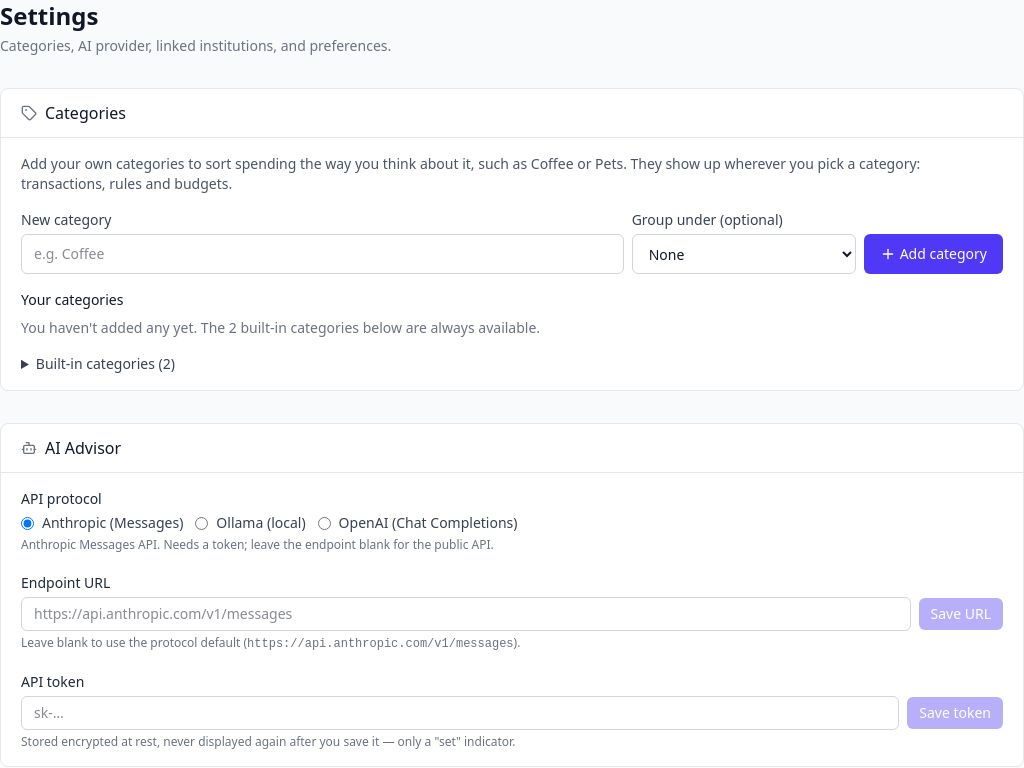
it: SettingsPage categories › adds a category under a group, then renames it
expect the text "You haven't added any yet" is shown: met, box [21, 318, 229, 337]
Step 1. Type "Coffee" into the field labelled "New category" → (322, 254), box [21, 234, 624, 274]
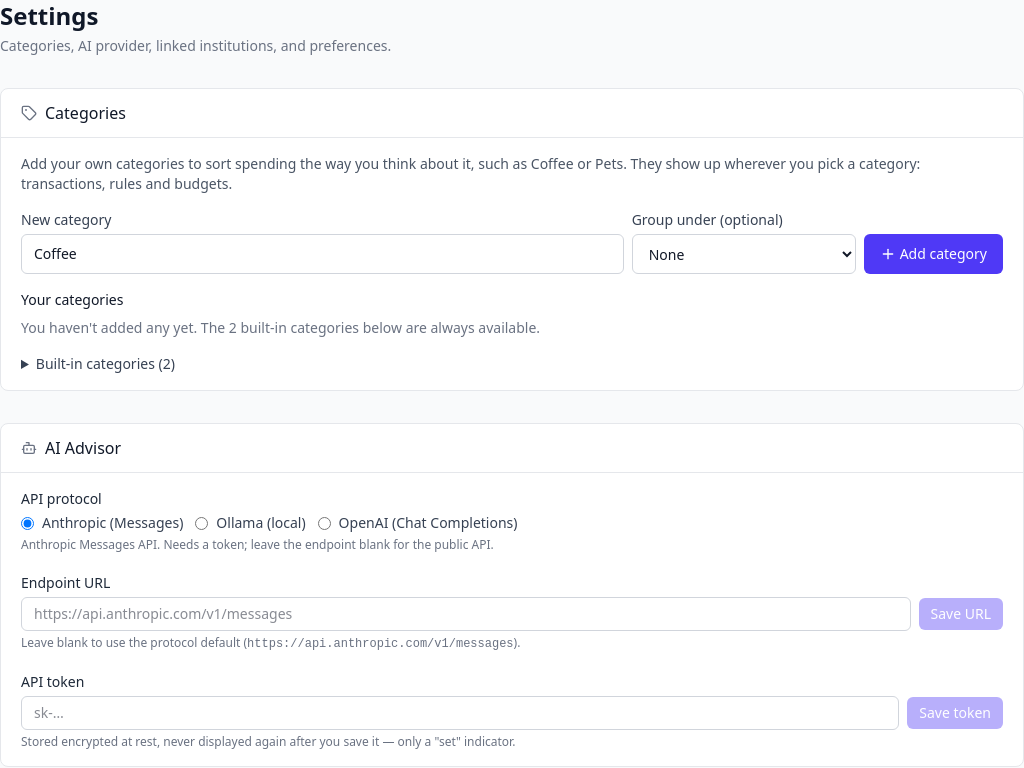
Step 2. Select "Groceries" in the dropdown labelled "Group under (optional)" → (744, 254), box [632, 234, 856, 274]
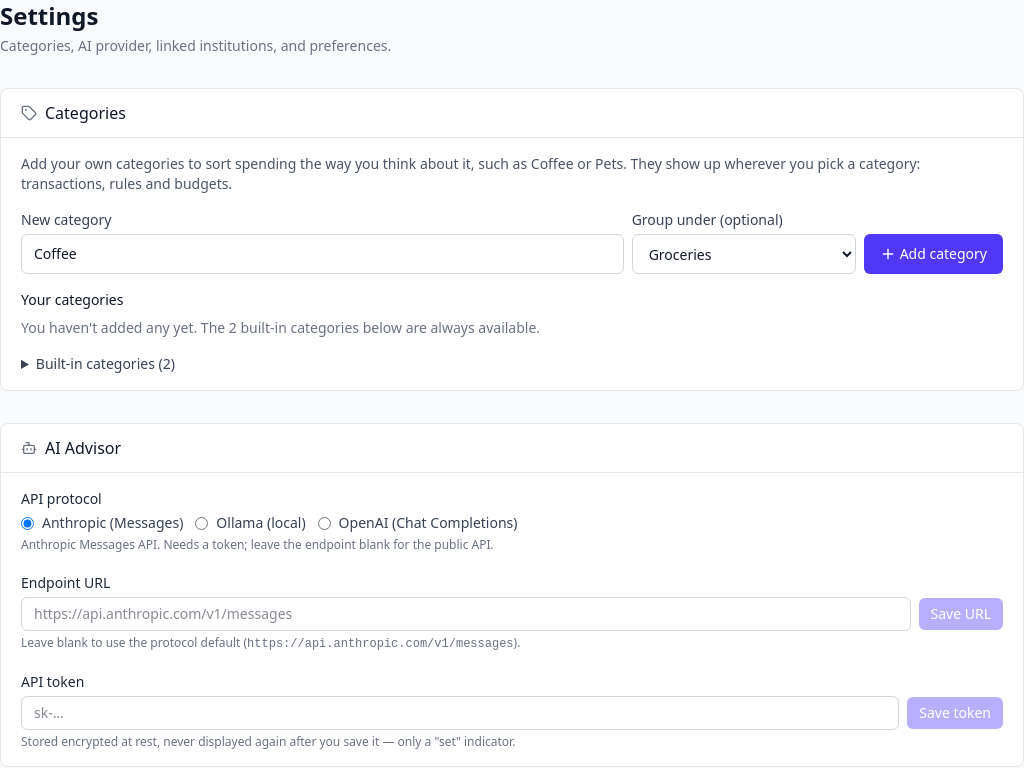
Step 3. Click the button "Add category" → (933, 254), box [864, 234, 1003, 274]
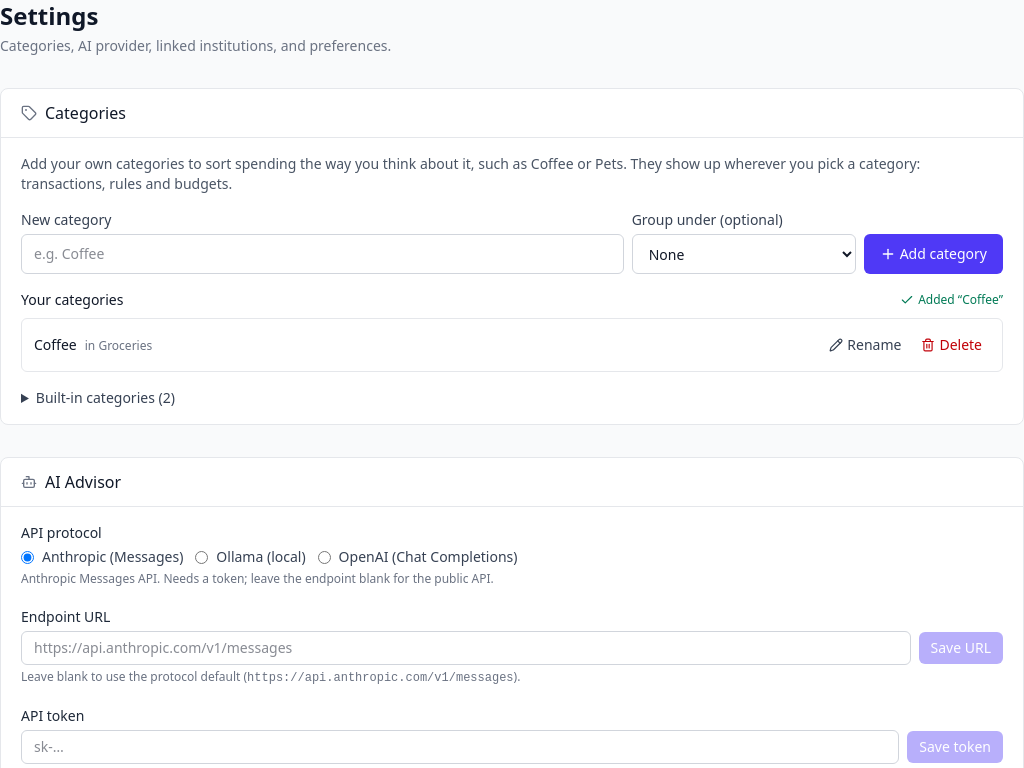
expect the text "in Groceries" is shown: met, box [85, 337, 152, 354]
Step 4. Click the button with aria-label "Rename Coffee" → (865, 345), box [821, 327, 909, 363]
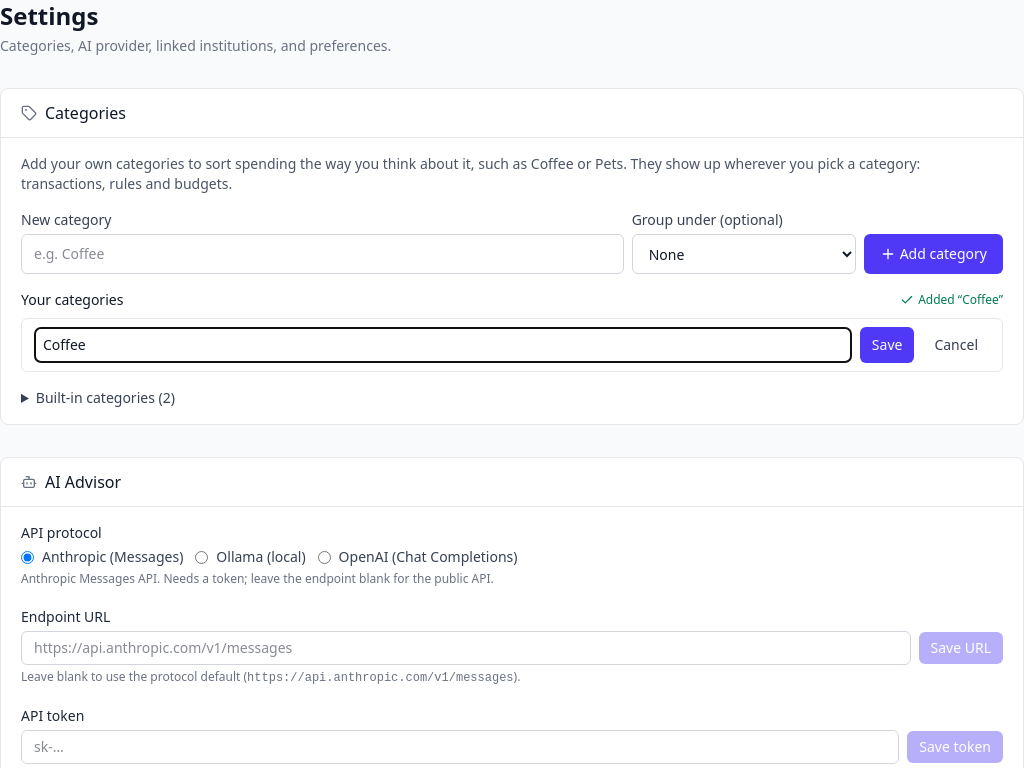
Step 5. Replace the text in the field named "New name for Coffee" with "Coffee shops" → (443, 345), box [34, 327, 852, 363]
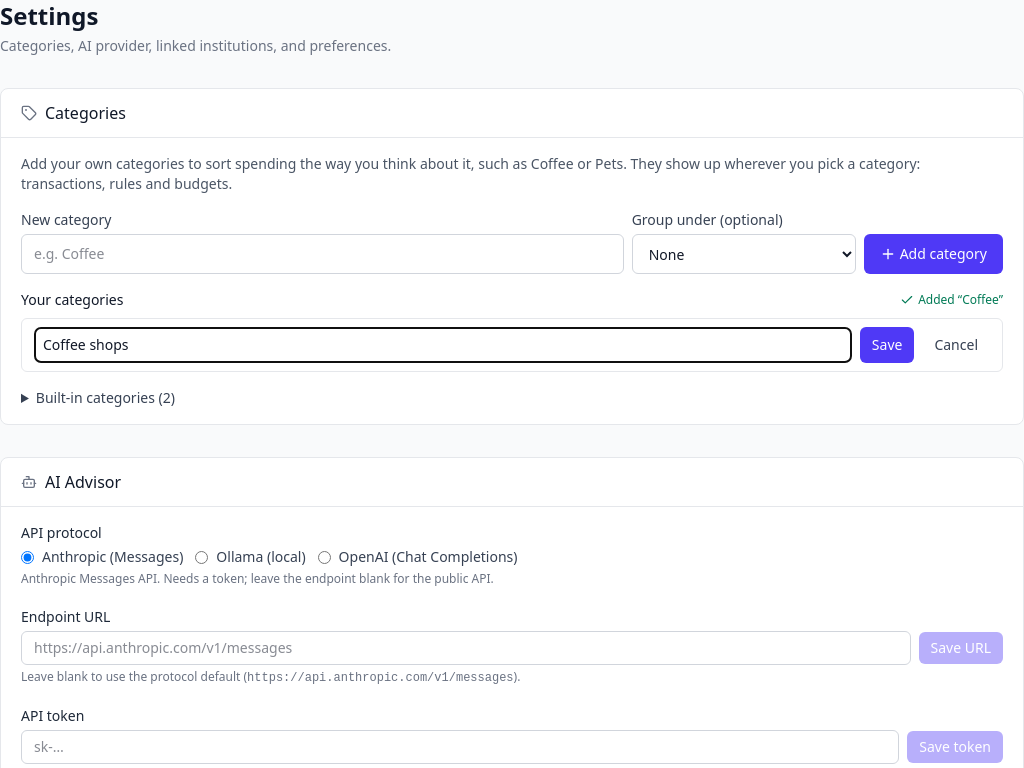
Step 6. Click the button "Save" → (887, 345), box [860, 327, 914, 363]
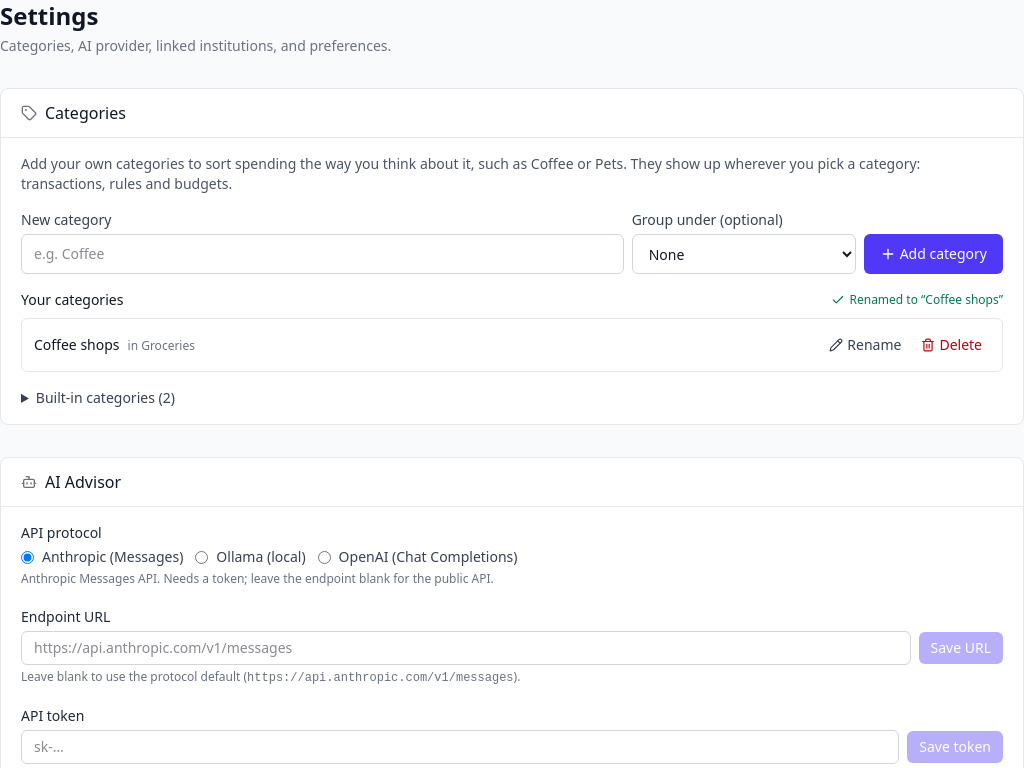
expect the text "Coffee shops" is shown: met, box [34, 335, 120, 354]
expect the message reads "Renamed to “Coffee shops”": met, box [850, 291, 1003, 308]
